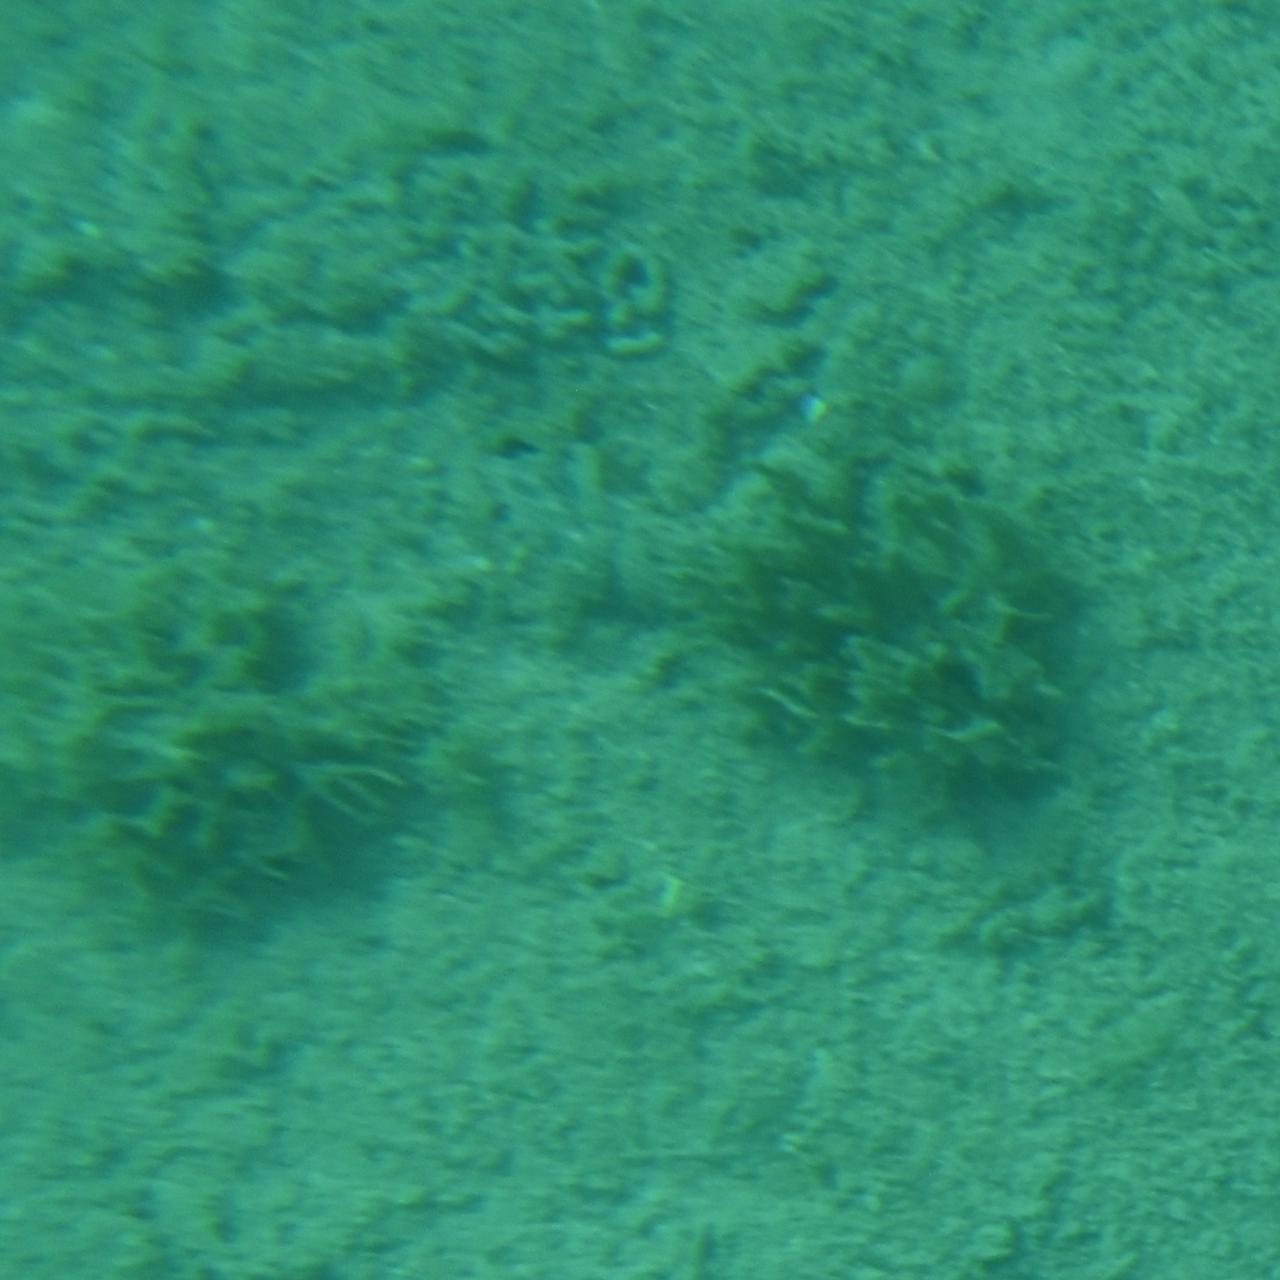Holothuria tubulosa: (475, 407, 876, 622)
Phaeophyceae -cfr Cystoseira-: (706, 450, 1088, 856), (19, 592, 452, 940)
